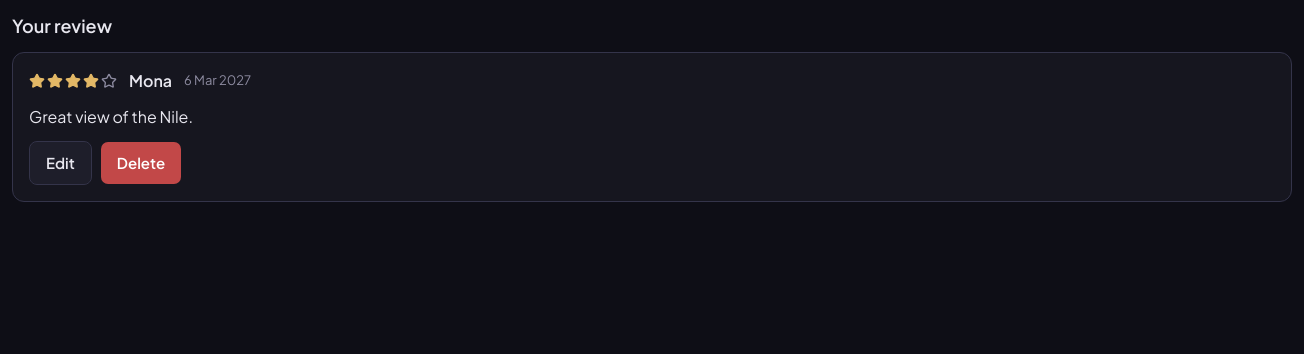
saving sends only the changed fields, then shows the success toast and reloads
Click the button "Edit" at point(60, 163), box left=29, top=141, right=92, bottom=185
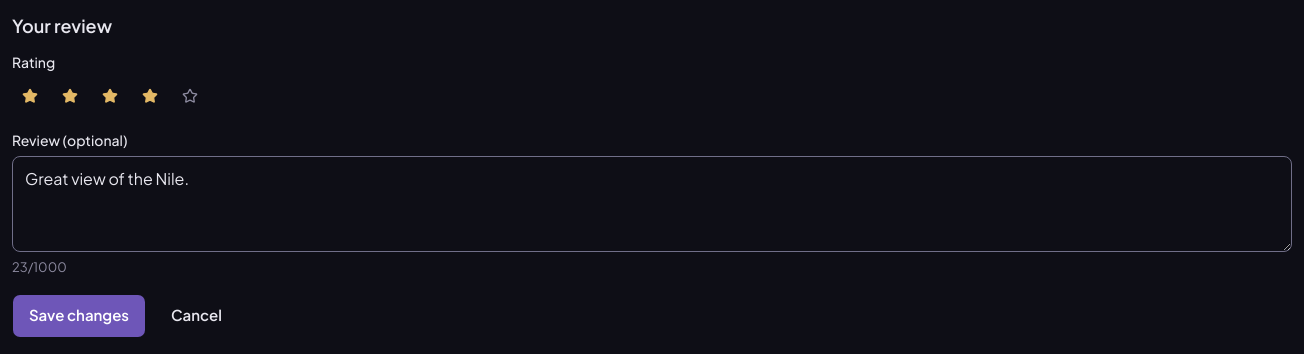
Click the radio button named "2 stars" at point(70, 96), box left=62, top=88, right=78, bottom=104
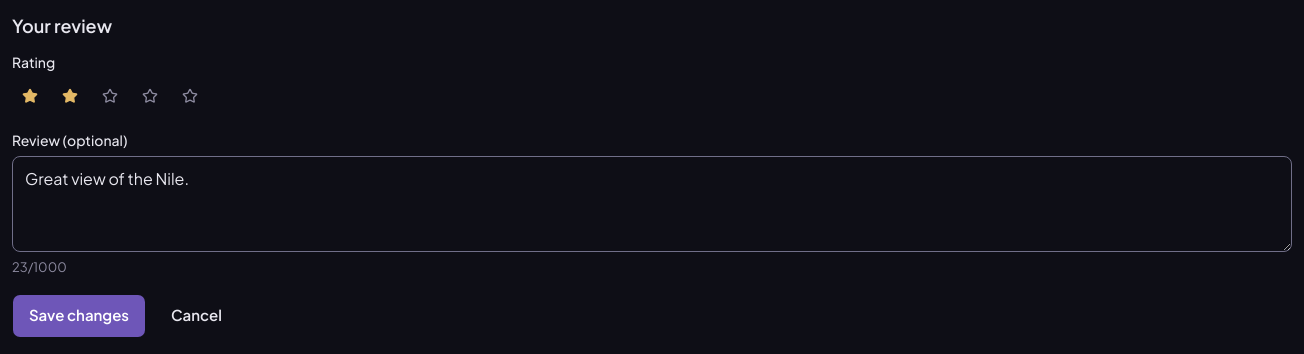
Click the button "Save changes" at point(79, 316), box left=12, top=294, right=146, bottom=338
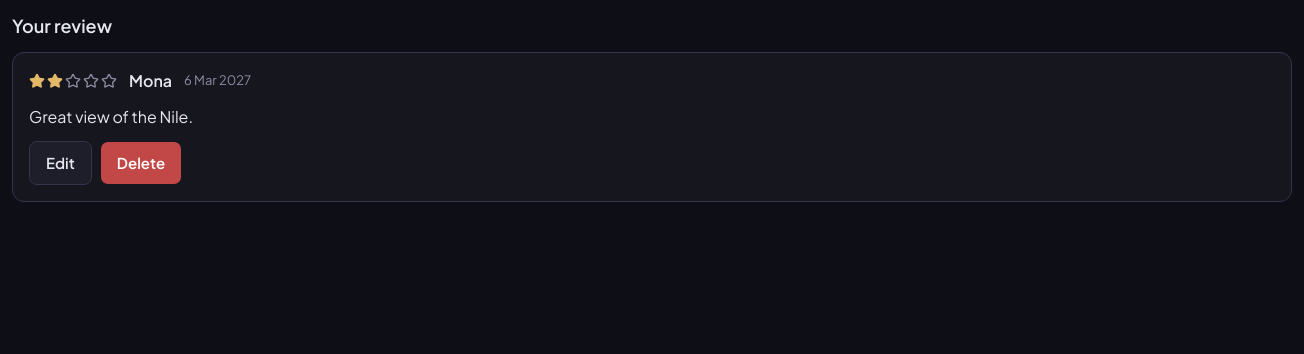
Result: the element showing "Mona 6 Mar 2027 Great view of the Nile. Edit Delete" is shown at left=12, top=52, right=1292, bottom=202
